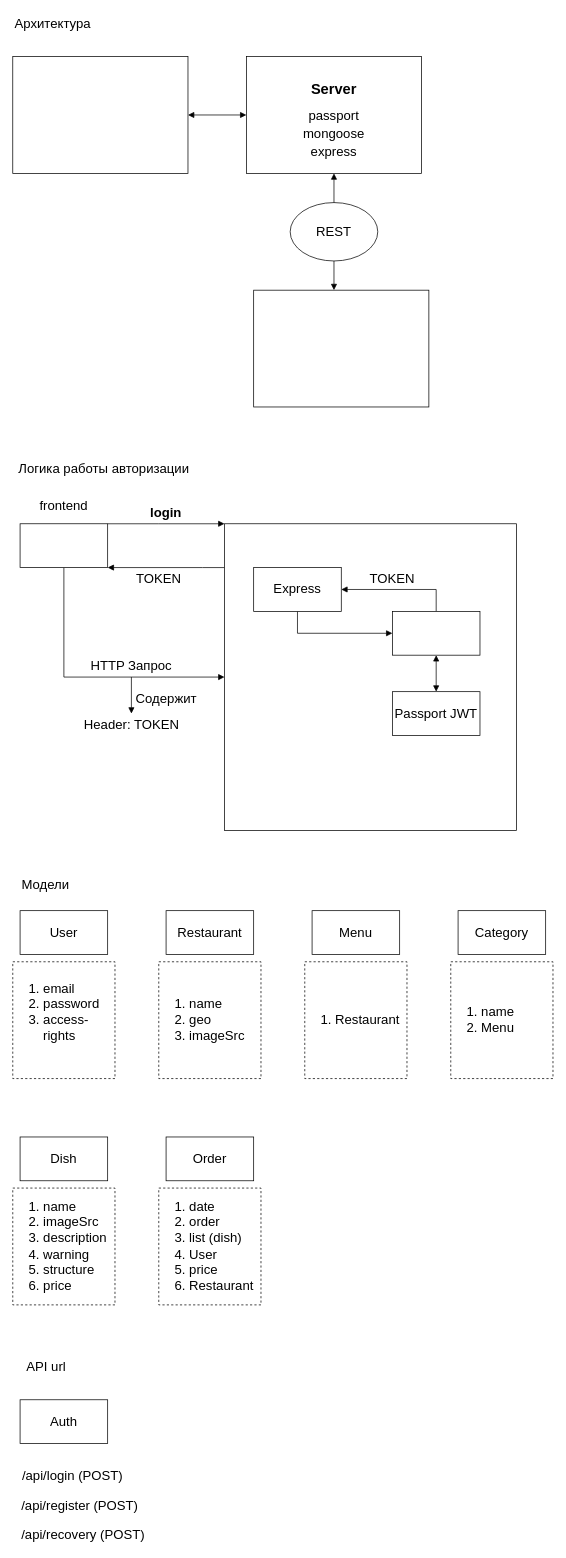
Some shapes in this 566 by 1558 pixel diagram are drawn without their labels. Each missing label, with the centre of its shape:
Client: the point at 63,545
Client VueJS: the point at 341,348
MongoDB: the point at 100,114
Passport: the point at 436,633
